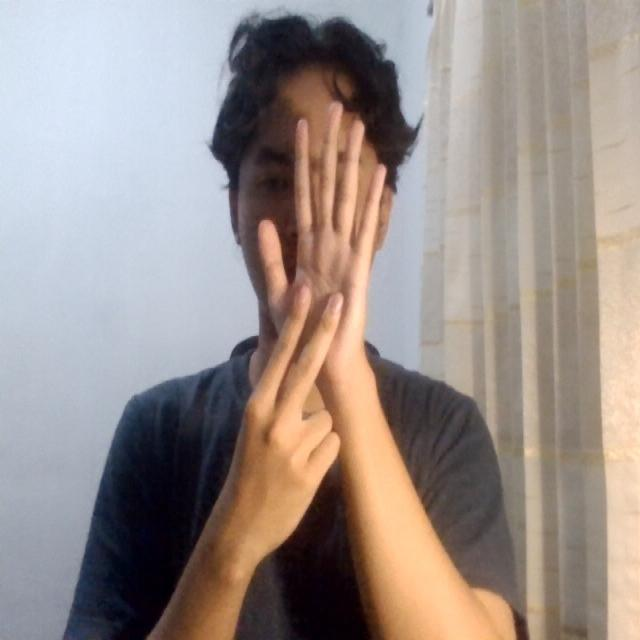IloveYou: (205, 81, 428, 502)
